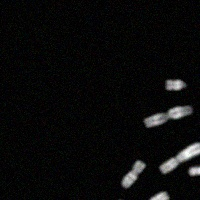chromosome: (159, 142, 200, 173), (145, 104, 193, 127), (121, 159, 144, 188), (128, 191, 169, 200), (189, 157, 200, 177), (166, 80, 187, 90), (112, 198, 125, 200)
